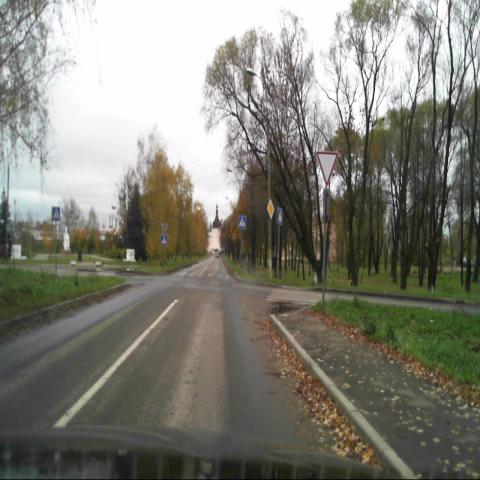2_1: (267, 199, 274, 220)
2_4: (316, 150, 338, 186)
5_19_1: (238, 215, 246, 229), (52, 206, 60, 220)
